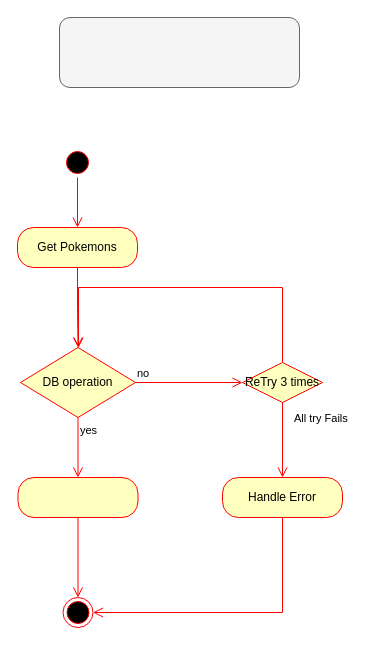
Some shapes in this 366 by 645 pixel diagram are drawn without their labels. The shapes that lost their labels are listed below. From the top down, each one's centre as x and y in pixels, then its label:
At [179,52]: "Assignment 3 | CS 6310 FALL 2024 Activity Diagram Robustness Group 55".
At [77,497]: "Display List of pokemons".
